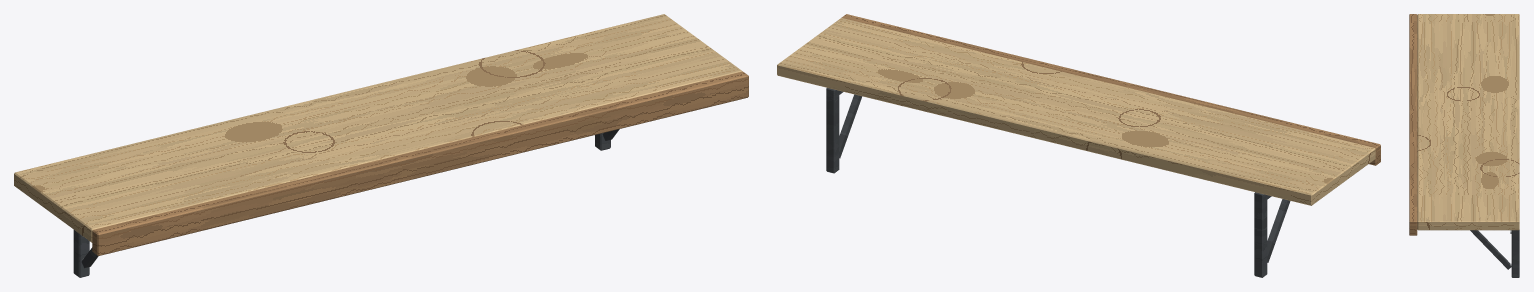
The model's file is gk_plank.glb.
3 renders of one model, left to right at view 1: azimuth 30°, elevation 25°; view 2: azimuth 150°, elevation 25°; view 3: azimuth 270°, elevation 25°, orthographic. The views are drawn at different scales.
Visible parts, largest first — view 1: p; view 2: p; view 3: p.
Part boxes in pixels (x1,y1,x2,y2): p: [14, 14, 748, 277]; p: [777, 14, 1380, 277]; p: [1409, 14, 1519, 277].
Bounding box in the file's own units: 1.2 × 0.205 × 0.27.
Materials: 4 (4 with a texture image).
